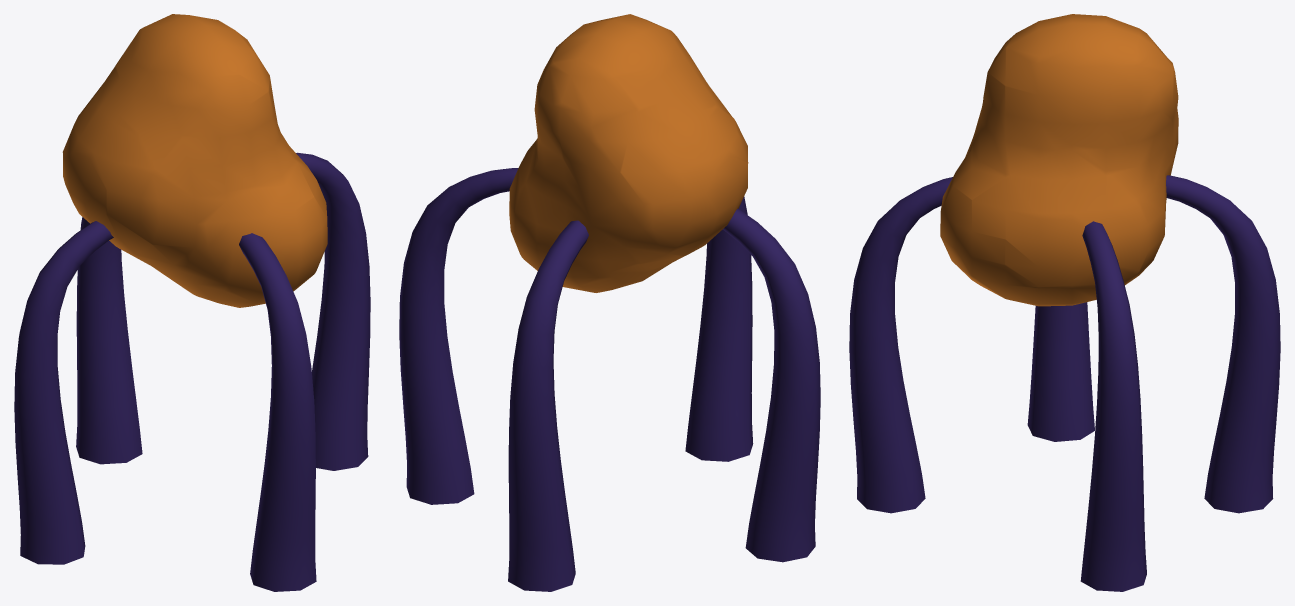
The model's file is Tree_Blob_3-transformed.glb.
3 views of the same model, side by side, from view 1: azimuth 30°, elevation 25°; view 2: azimuth 150°, elevation 25°; view 3: azimuth 270°, elevation 25° (orthographic). The views are drawn at different scales.
Visible parts, largest first — view 1: Tree_Blob_3; view 2: Tree_Blob_3; view 3: Tree_Blob_3.
Boxes of the visible parts, bbox=[...] form: Tree_Blob_3: bbox=[14, 14, 370, 591]; Tree_Blob_3: bbox=[399, 14, 820, 591]; Tree_Blob_3: bbox=[849, 14, 1280, 591].
Size of the model in its own units: 2.8 by 3.42 by 2.77.
Materials: 1 (1 with a texture image).
